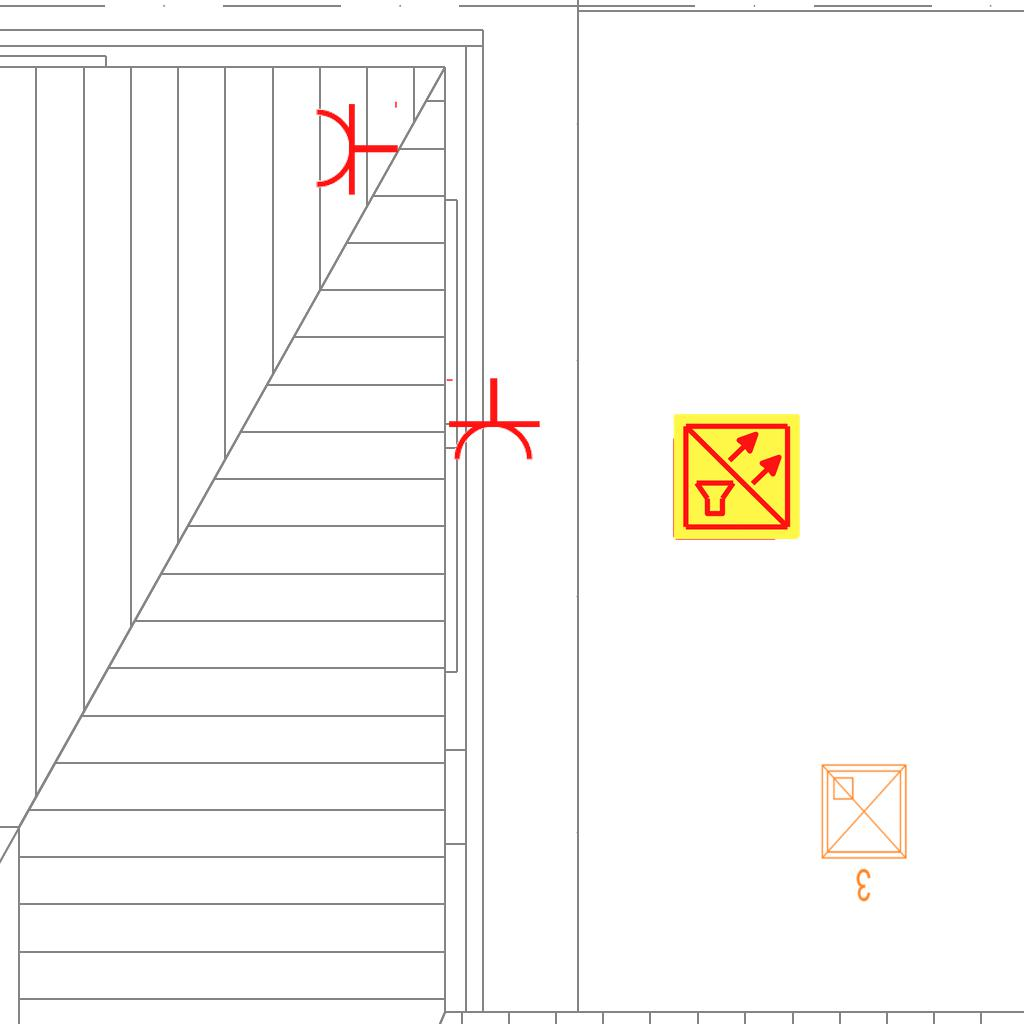Einbaudownlights_LED_Konferenzraeume: (814, 757, 918, 907)
OKW_Multisensormelder_(Kombination_optischer_Rauch-Kahlenmonoxid_Waerme-Melder): (671, 411, 803, 543)
Schukosteckdose_einfach: (442, 376, 542, 463), (313, 97, 400, 197)
